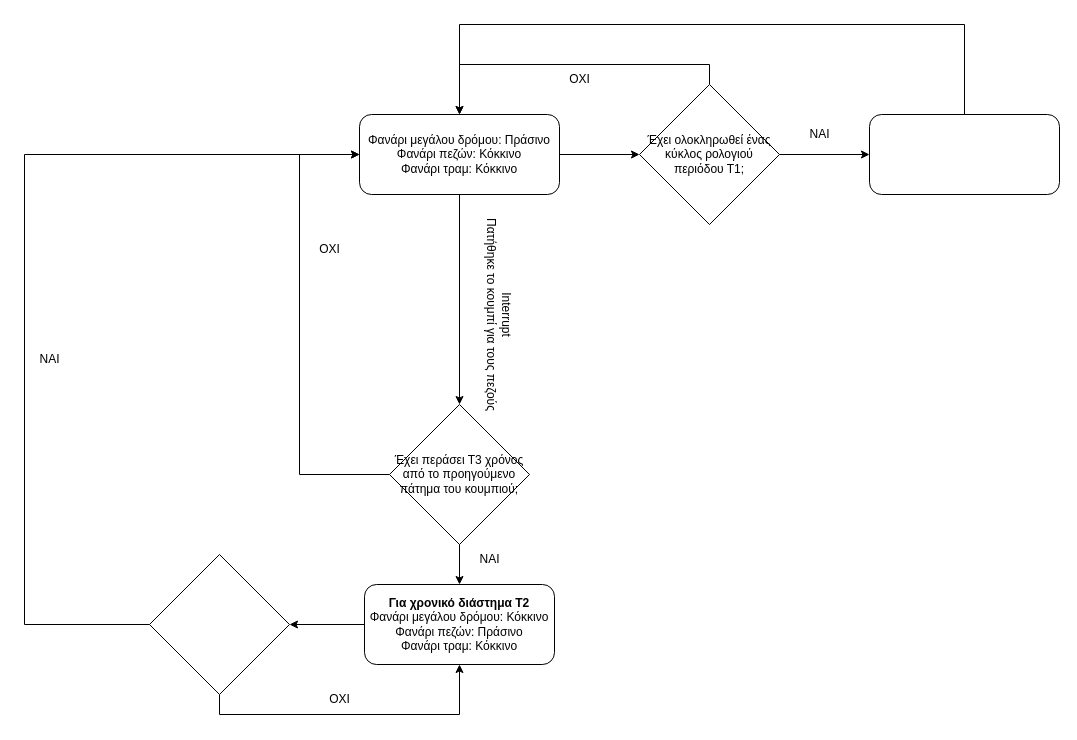
This 1077x740 diagram has some shape labels left out. The shapes that lost their labels are listed below. From the top down, each one's box as (x1, y1, x2, y2) in pixels, then its label:
(868, 114, 1060, 194): Φανάρι μεγάλου δρόμου: Κόκκινο Φανάρι πεζών: Πράσινο Φανάρι τραμ: Πράσινο
(148, 554, 290, 694): Έχει περάσει Τ2 χρόνος από τη στιγμή που πατήθηκε το κουμπί;
